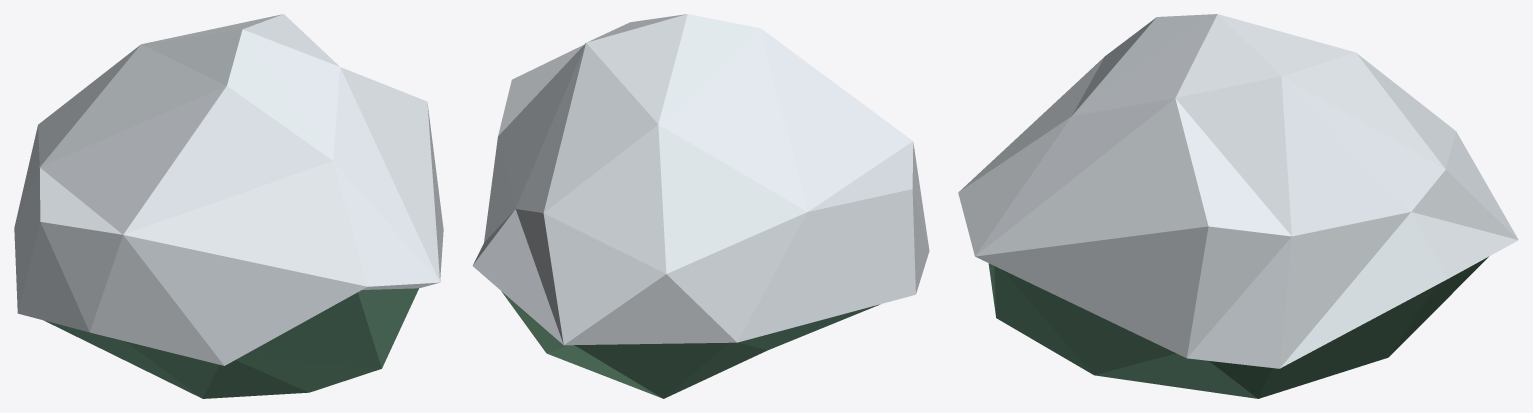
The model's file is Bush_nev.obj.
The picture shows the model from 3 angles, left to right: view 1: azimuth 30°, elevation 25°; view 2: azimuth 150°, elevation 25°; view 3: azimuth 270°, elevation 25°; orthographic projection. The views are drawn at different scales.
Parts seen in each view (by area): view 1: Bush_nev; view 2: Bush_nev; view 3: Bush_nev.
Part boxes in pixels (x1,y1,x2,y2): Bush_nev: (14,14,443,398); Bush_nev: (472,14,929,398); Bush_nev: (958,14,1518,398).
Bounding box in the file's own units: 2.88 × 2.27 × 3.2.
